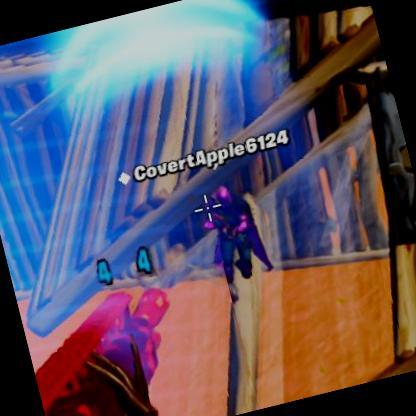person: (210, 177, 276, 284)
